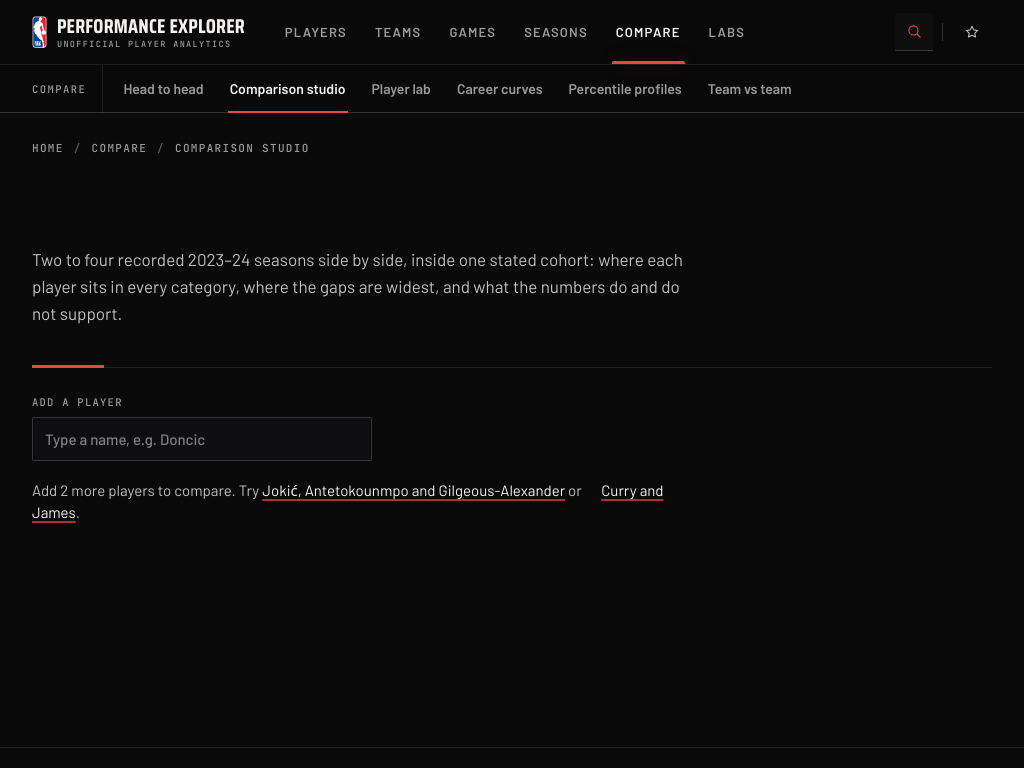
Test case: comparison studio › builds the cast by name, reorders and removes players through the URL
Type "alpha" into the field labelled "Add a player" at (202, 439), box [32, 417, 372, 461]
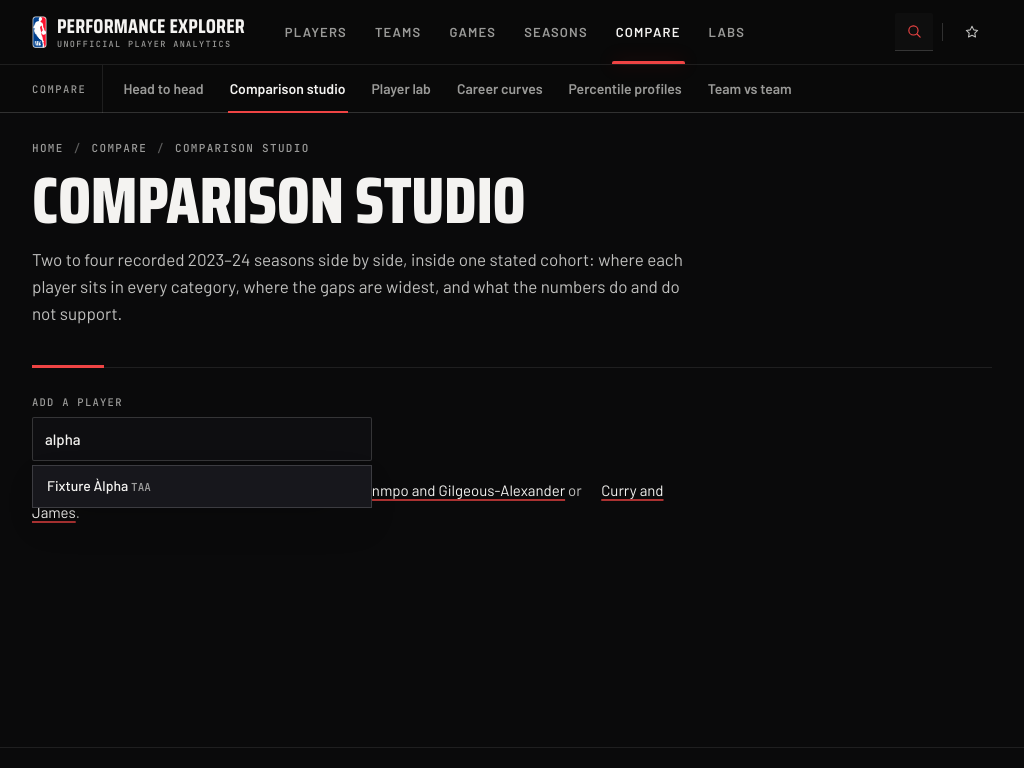
Click the button "Fixture Àlpha TAA" at (88, 485), box [37, 470, 367, 503]
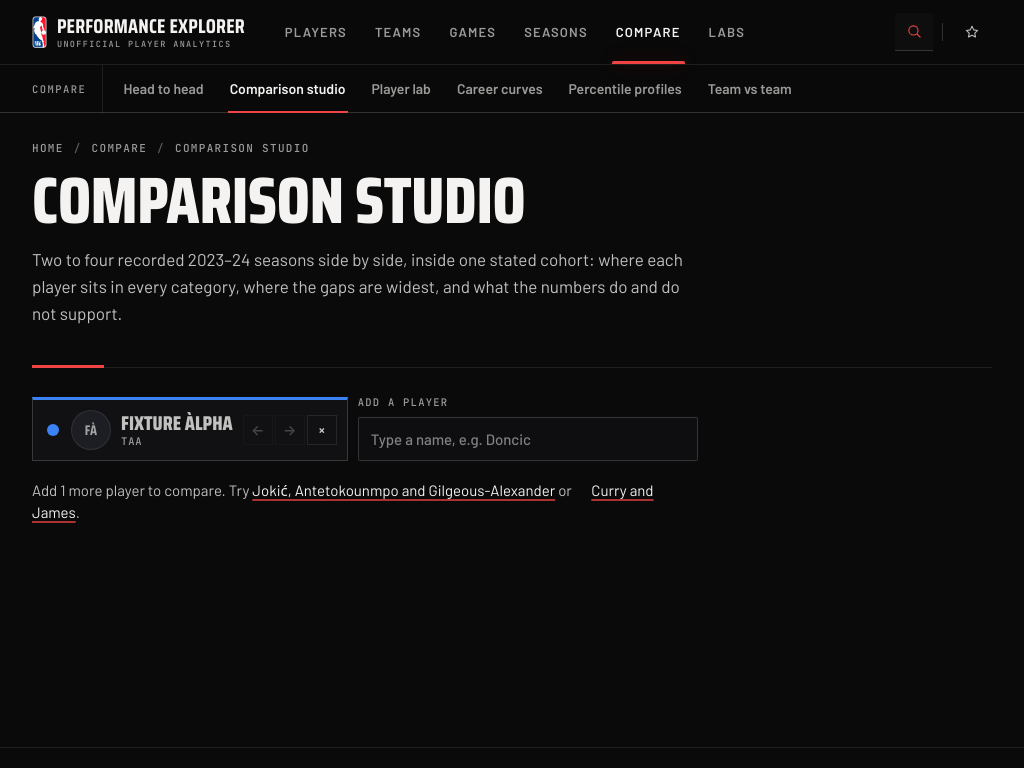
Now the text "Add 1 more player to compare" is shown, box [32, 479, 693, 524]
Type "bra" into the field labelled "Add a player" at (528, 439), box [358, 417, 698, 461]
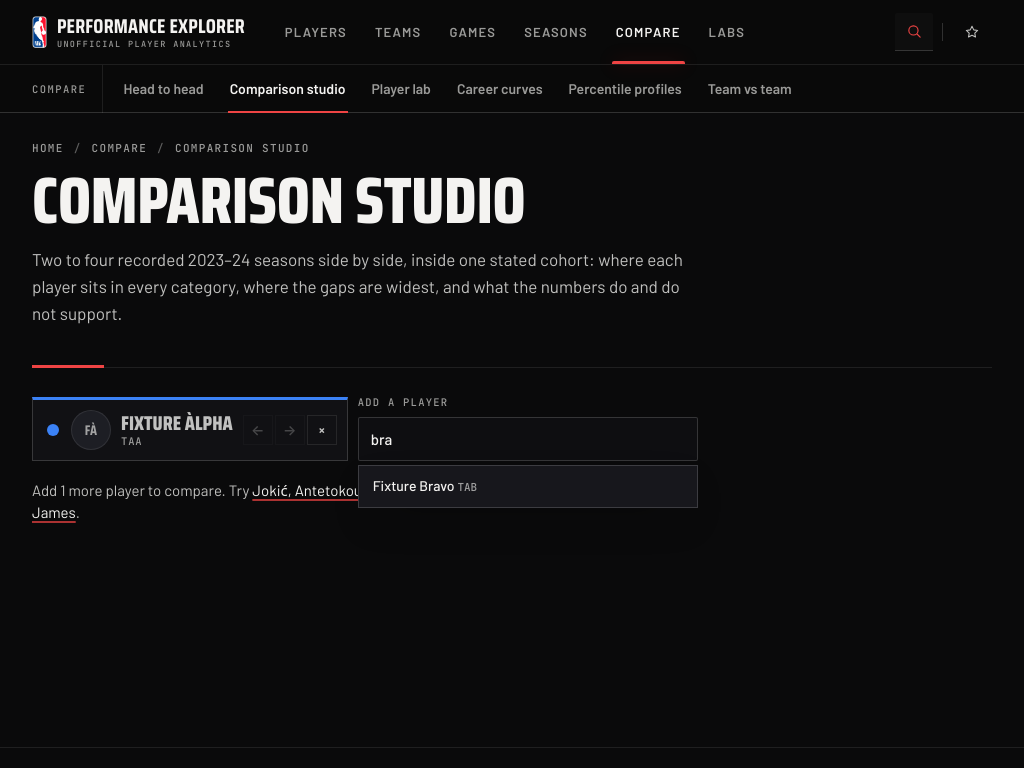
Click the button "Fixture Bravo TAB" at (414, 485), box [363, 470, 693, 503]
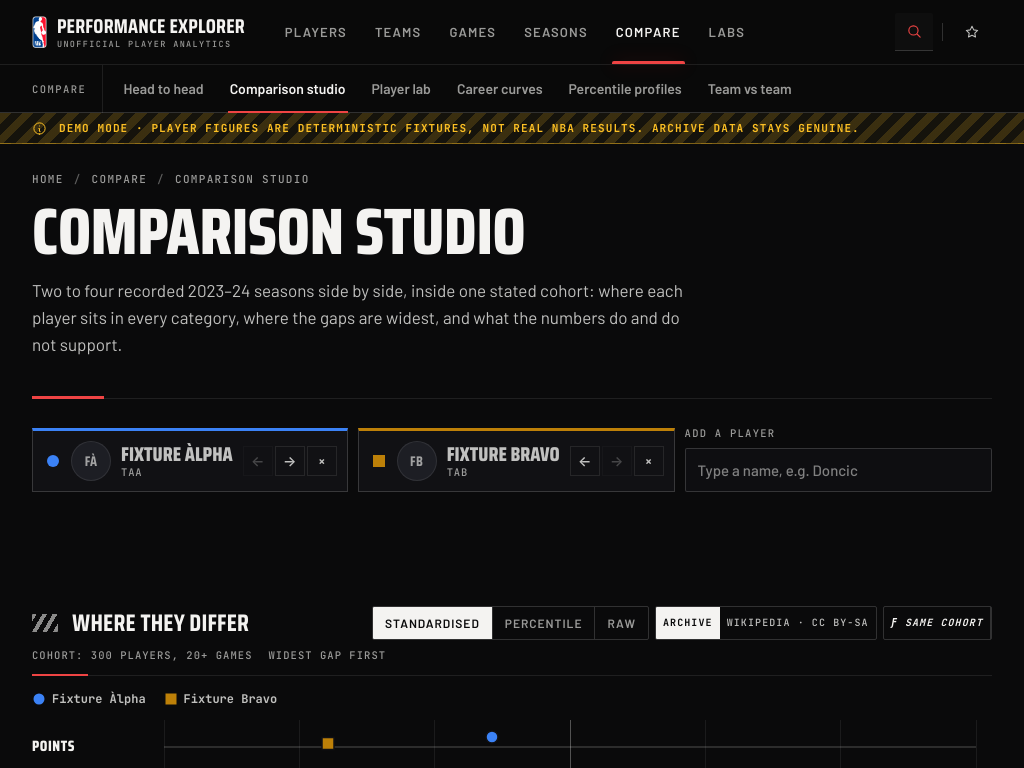
Click the button named "Move Fixture Bravo earlier" at (585, 461), box [570, 446, 600, 476]
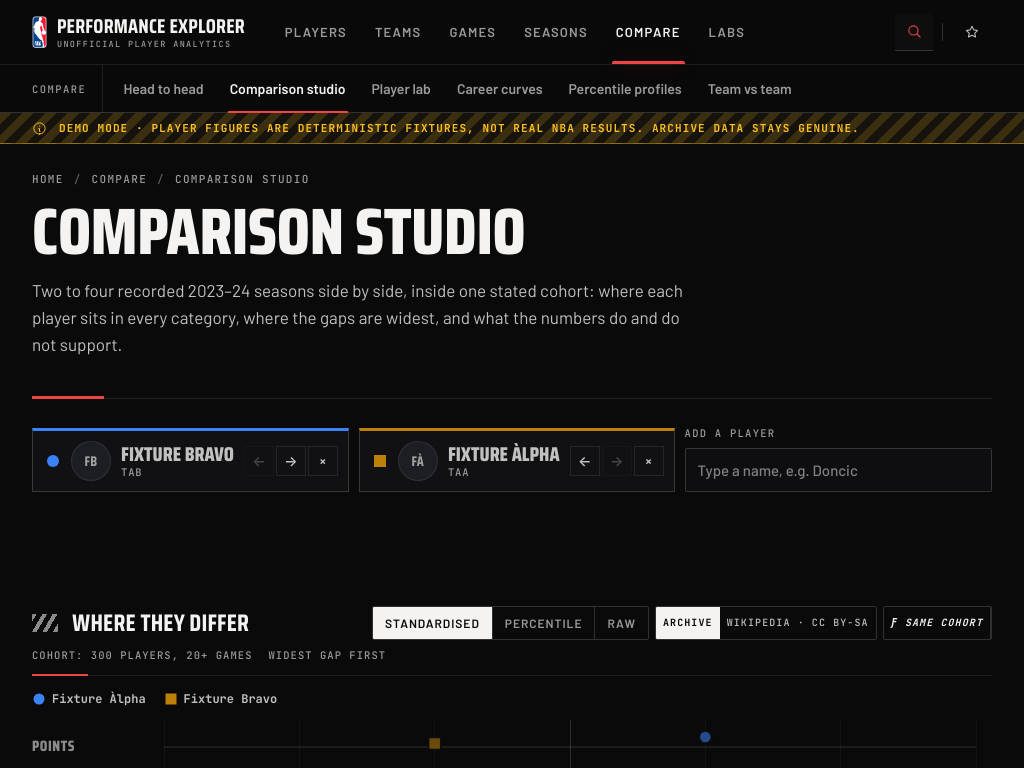
Click the button named "Remove Fixture Àlpha" at (649, 461), box [634, 446, 664, 476]
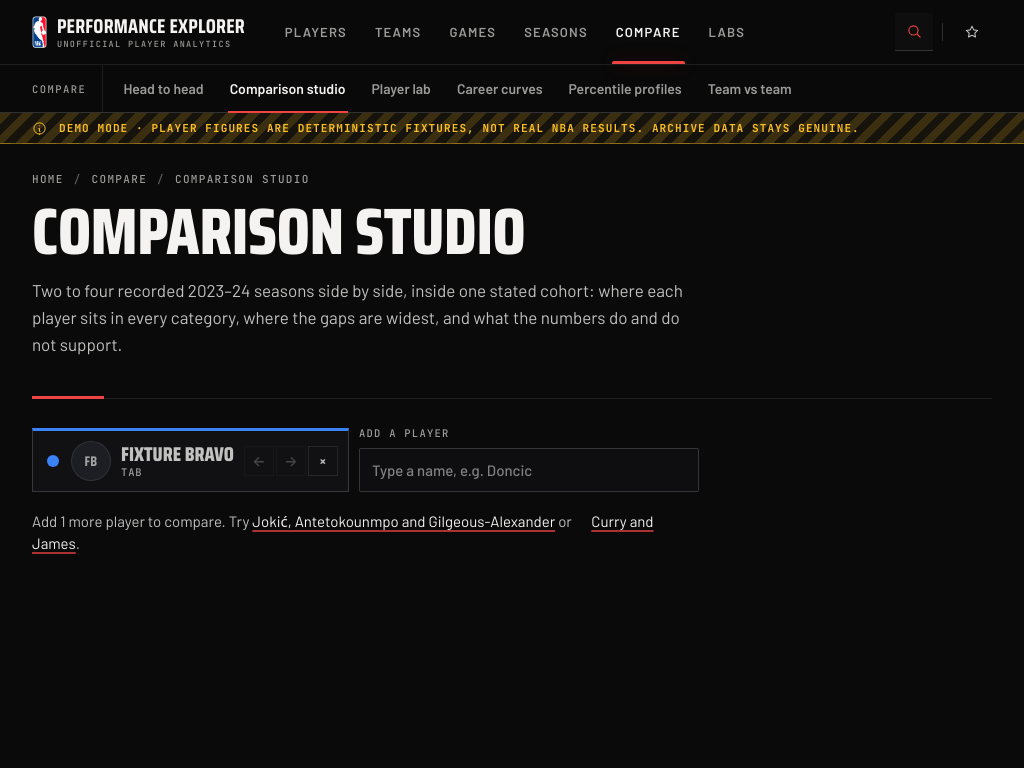
Now the text "Add 1 more player to compare" is shown, box [32, 510, 693, 555]
